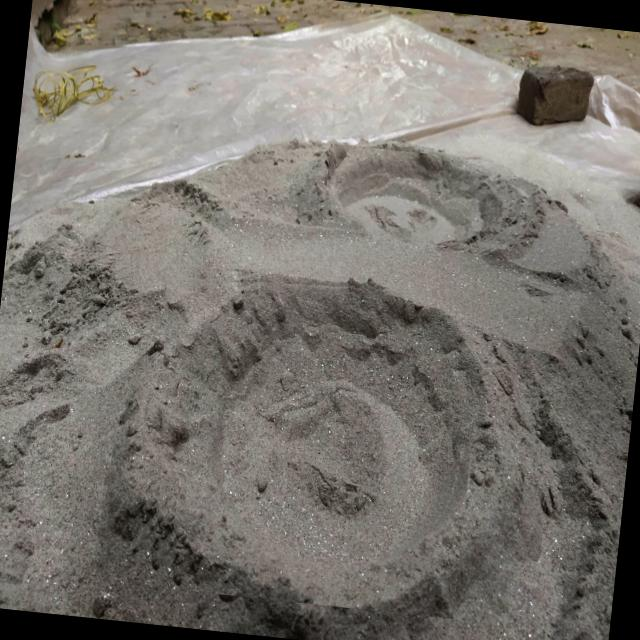C20: (158, 284, 479, 606), (327, 148, 500, 245)
